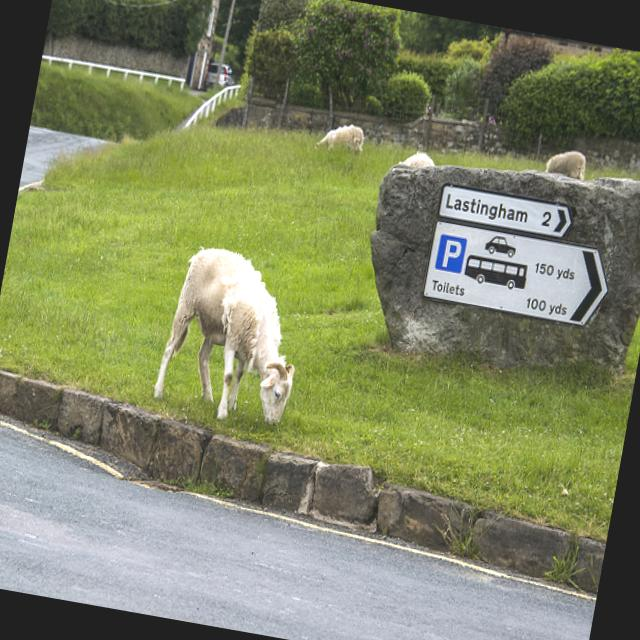Vehicle: (462, 254, 528, 292), (202, 61, 236, 96)
